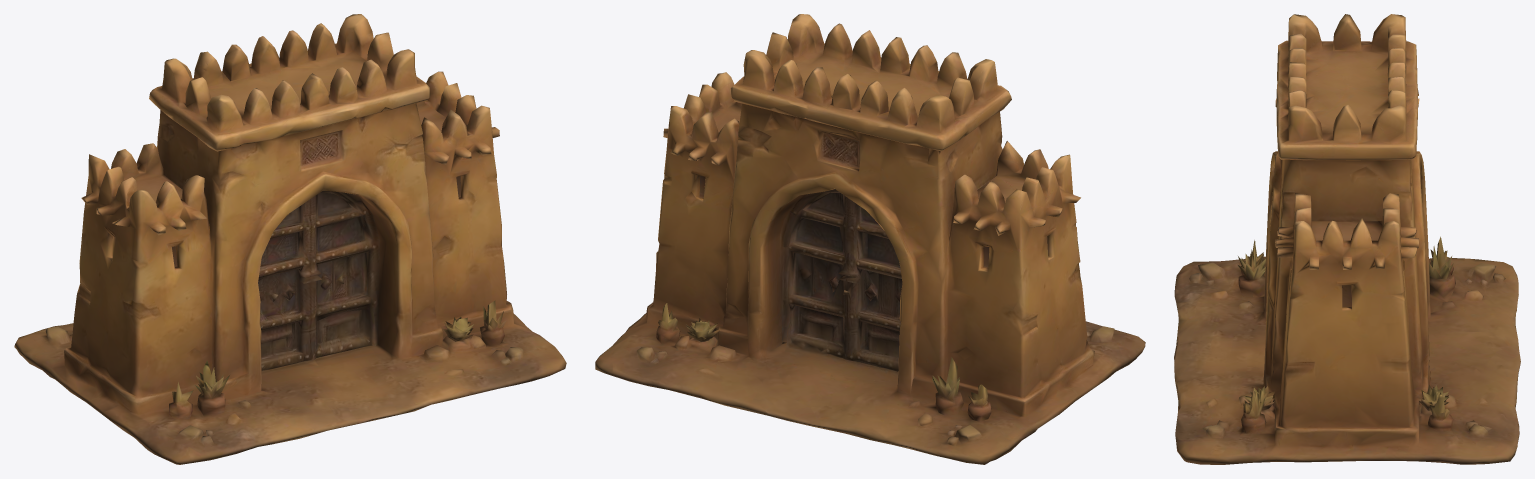
Rendered from emir_palace_main.glb.
3 renders of one model, left to right at view 1: azimuth 30°, elevation 25°; view 2: azimuth 150°, elevation 25°; view 3: azimuth 270°, elevation 25°, orthographic.
Visible parts, largest first — view 1: tripo_node_25965e9c-be92-42f6-b231-a30c76cba5df; view 2: tripo_node_25965e9c-be92-42f6-b231-a30c76cba5df; view 3: tripo_node_25965e9c-be92-42f6-b231-a30c76cba5df.
Part boxes in pixels (x1=…): tripo_node_25965e9c-be92-42f6-b231-a30c76cba5df: x1=14, y1=14, x2=566, y2=464; tripo_node_25965e9c-be92-42f6-b231-a30c76cba5df: x1=595, y1=14, x2=1145, y2=464; tripo_node_25965e9c-be92-42f6-b231-a30c76cba5df: x1=1174, y1=14, x2=1520, y2=464.
Bounding box in the file's own units: 1 × 0.7094 × 0.7263.
Materials: 1 (1 with a texture image).
